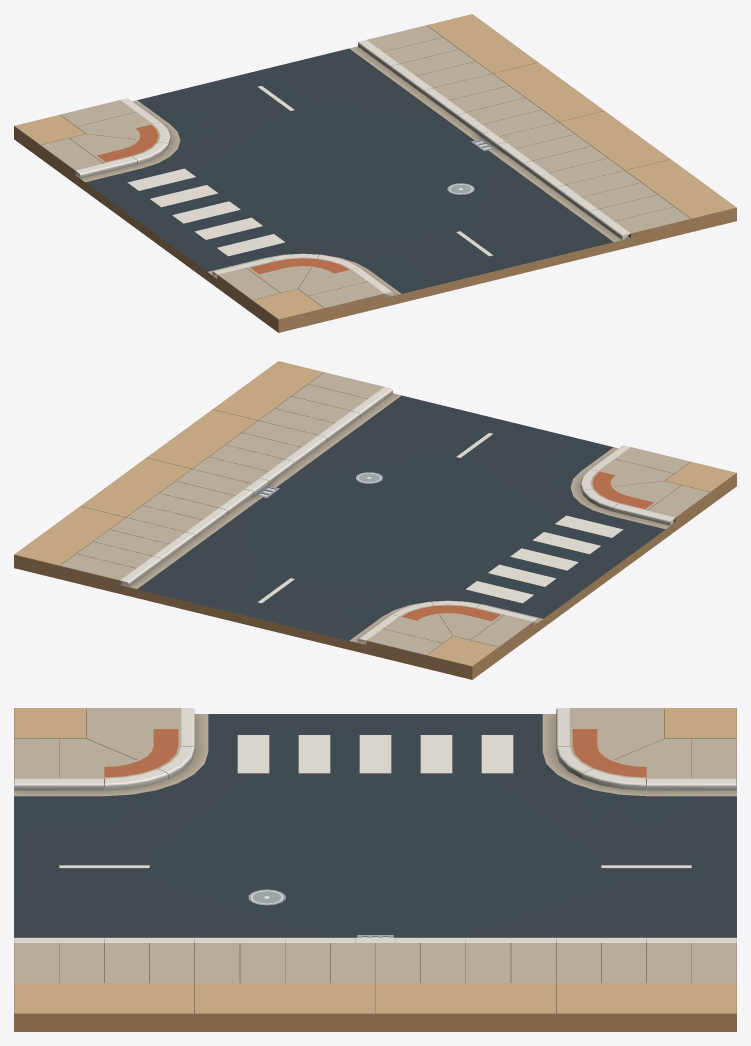
File: road_tee.fbx
The picture shows the model from 3 angles, top to bottom: view 1: azimuth 30°, elevation 25°; view 2: azimuth 150°, elevation 25°; view 3: azimuth 270°, elevation 25°; orthographic projection. The views are drawn at different scales.
Visible parts, largest first — view 1: road_tee; view 2: road_tee; view 3: road_tee.
Boxes of the visible parts, x1,y1,x2,y2 form: road_tee: [14, 14, 736, 332]; road_tee: [14, 361, 736, 679]; road_tee: [14, 708, 736, 1031].
Size of the model in its own units: 16 by 0.45 by 16.
